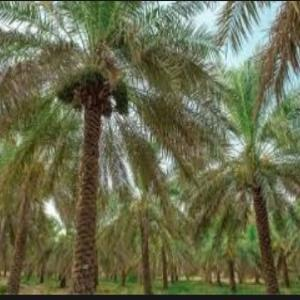palm tree: (0, 0, 232, 294), (190, 57, 299, 294)
